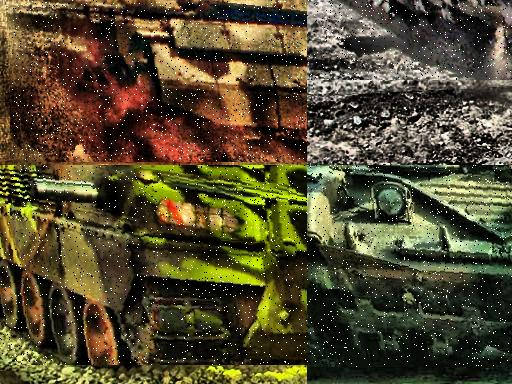tanks: (1, 166, 308, 366), (14, 1, 308, 162), (308, 166, 512, 368), (146, 144, 159, 163), (173, 156, 184, 163), (160, 157, 172, 163)
